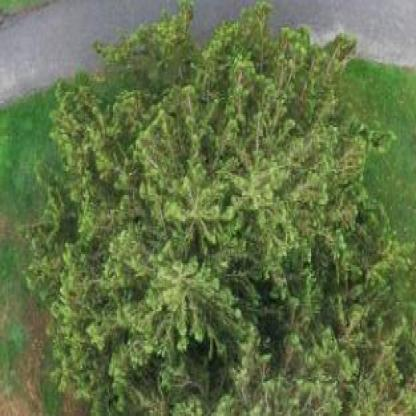Coniferous Tree: (54, 24, 383, 416)
